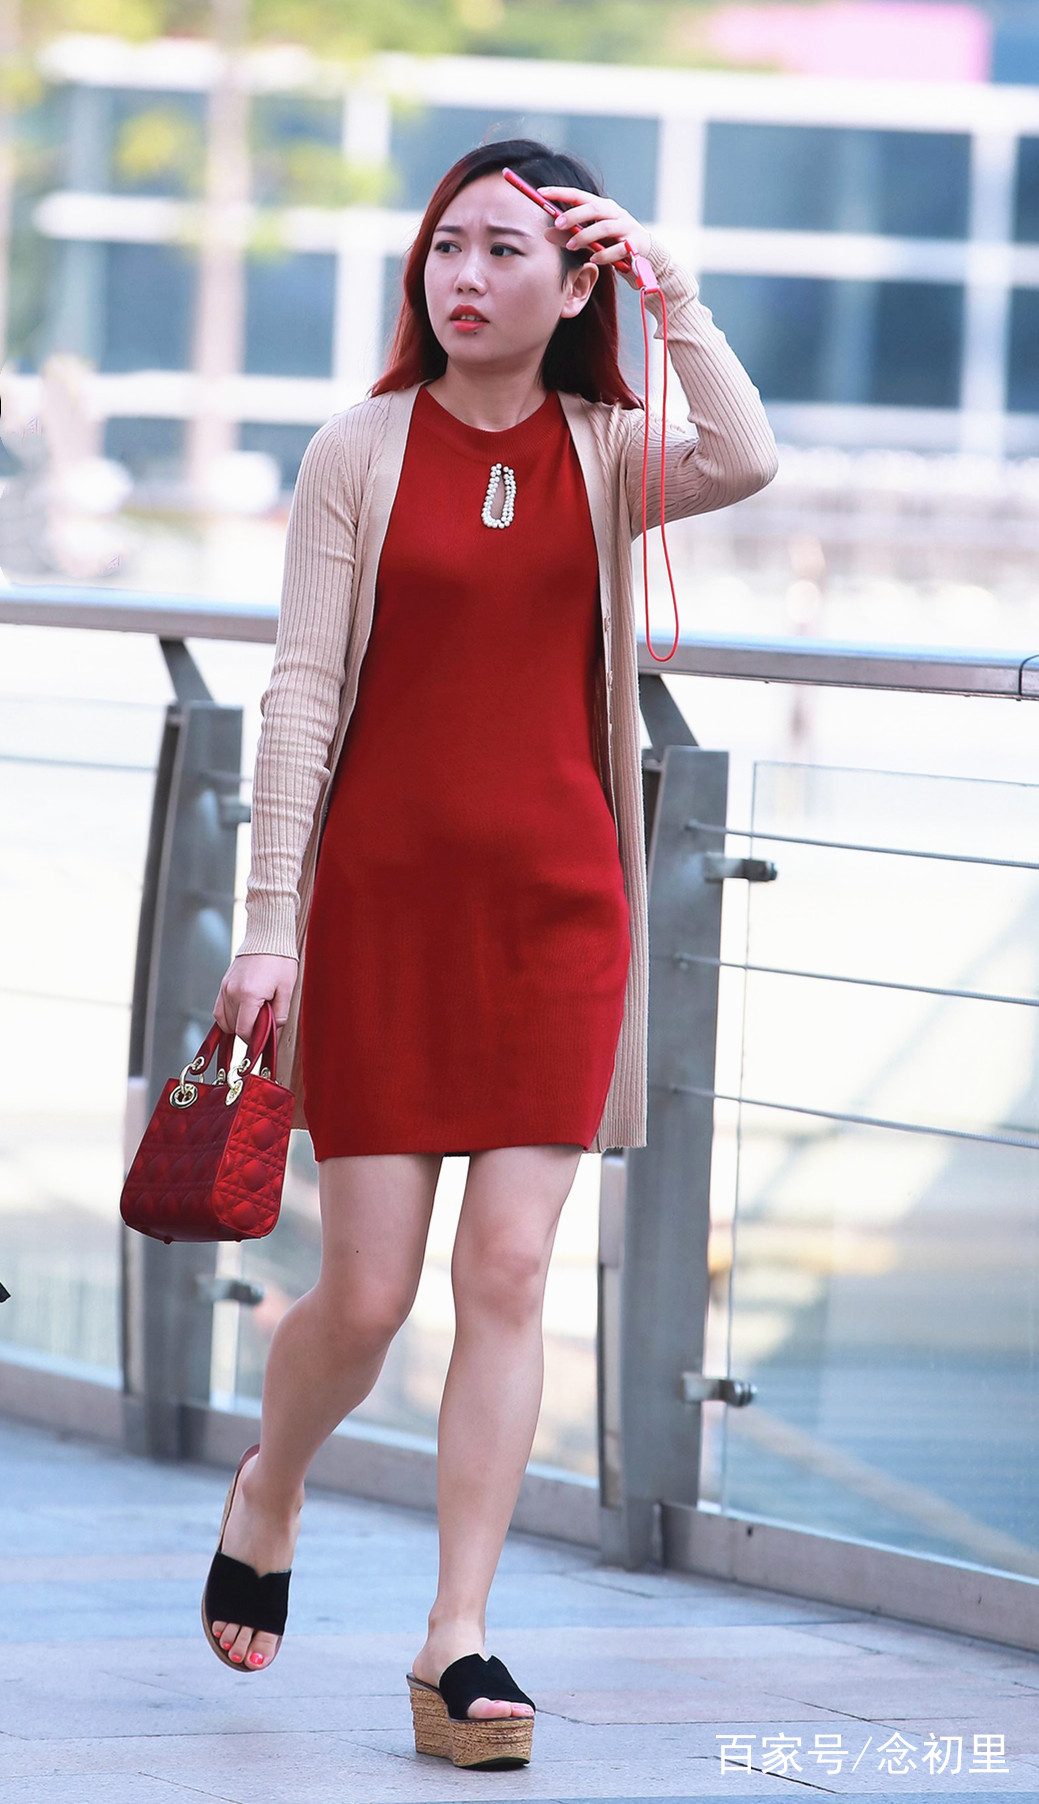person: (222, 69, 919, 1804)
